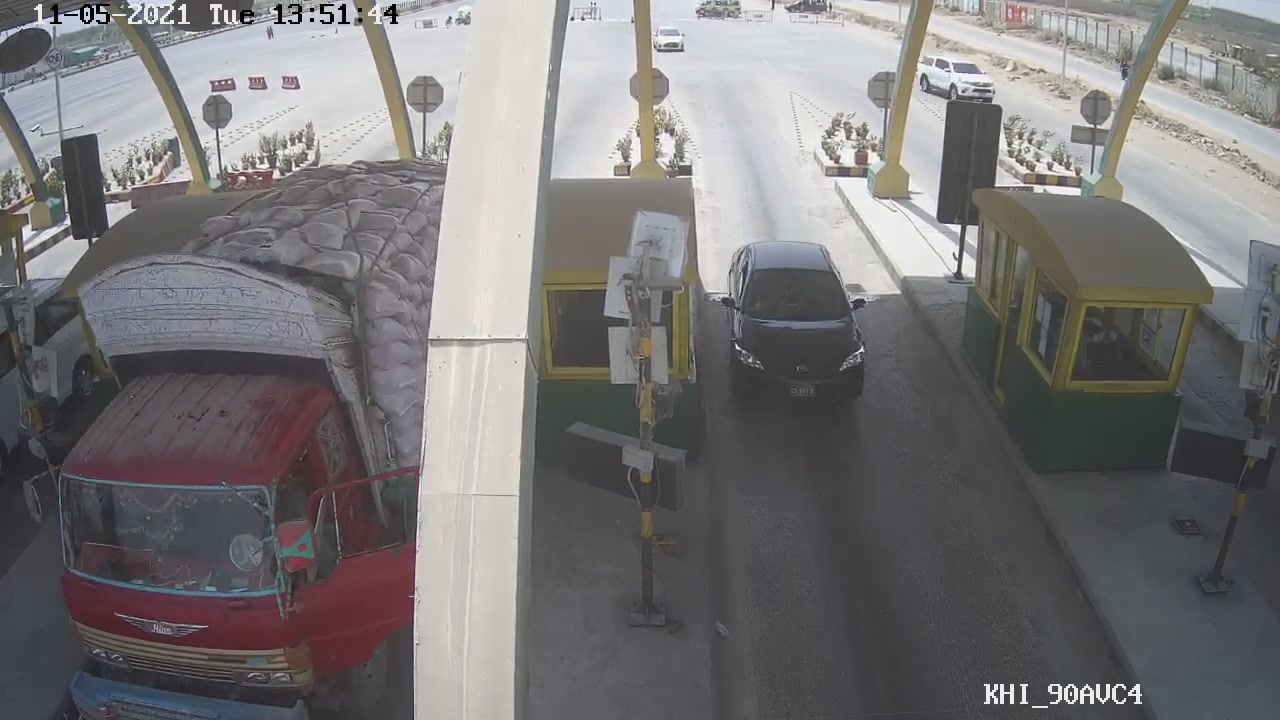F1: (715, 234, 887, 409)
